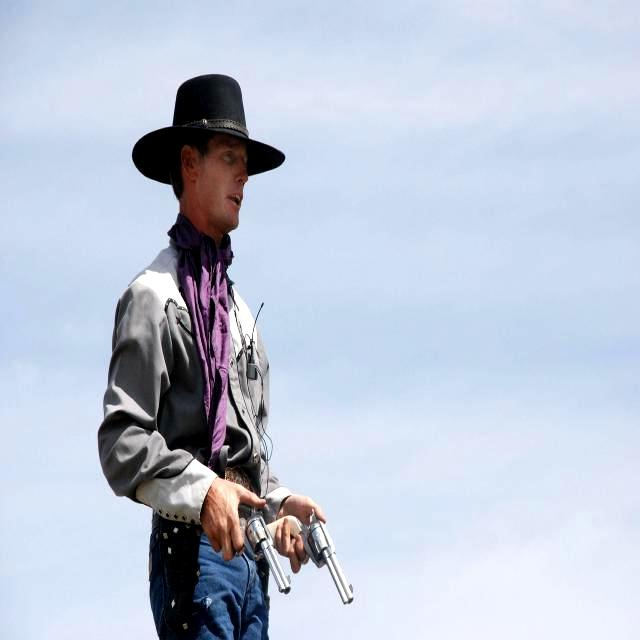no_hard_hat: (133, 74, 284, 184)
person: (98, 75, 321, 639)
